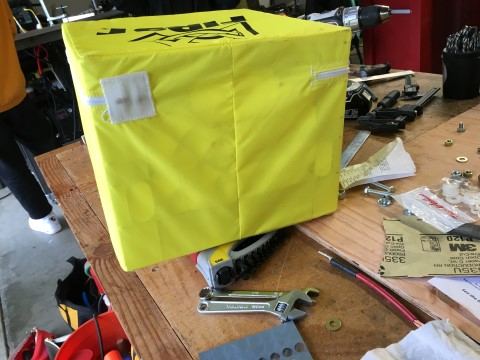cube: (61, 8, 351, 271)
